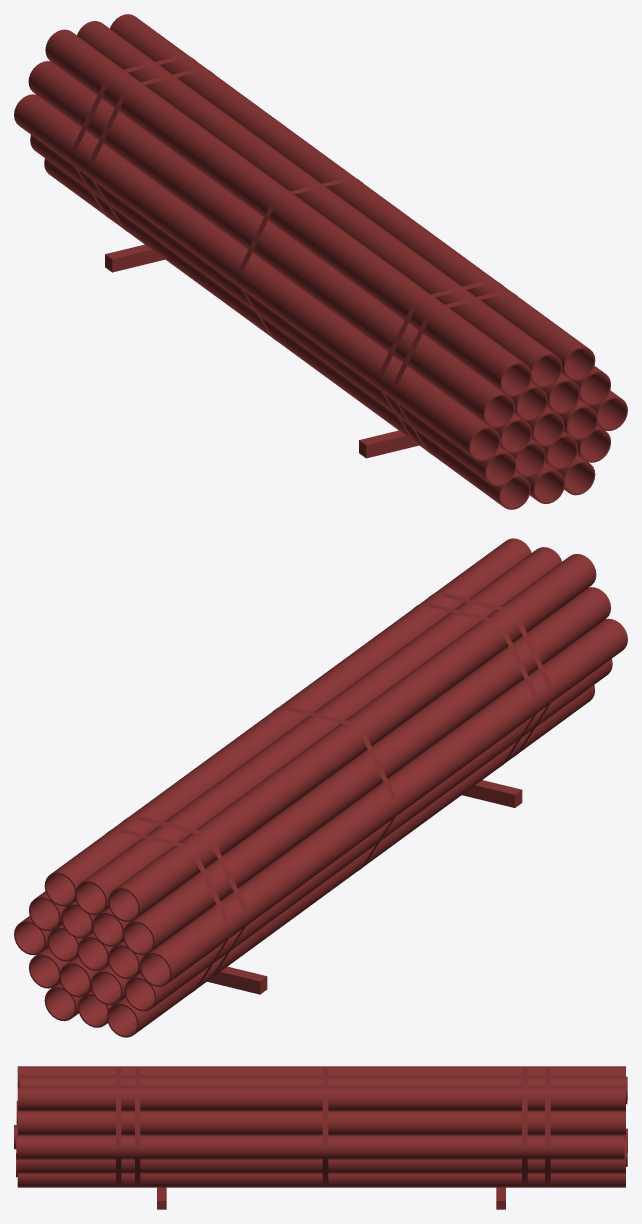
File: SM_SteelTube01Pack01.fbx
3 renders of one model, top to bottom at view 1: azimuth 30°, elevation 25°; view 2: azimuth 150°, elevation 25°; view 3: azimuth 270°, elevation 25°, orthographic. The views are drawn at different scales.
Parts seen in each view (by area): view 1: SteelTube01Pack01; view 2: SteelTube01Pack01; view 3: SteelTube01Pack01.
Part boxes in pixels (box(x1,y1,x2,y2)): SteelTube01Pack01: box(14, 14, 627, 509); SteelTube01Pack01: box(14, 538, 627, 1037); SteelTube01Pack01: box(14, 1066, 627, 1209).
Size of the model in its own units: 60.17 by 58.34 by 303.
